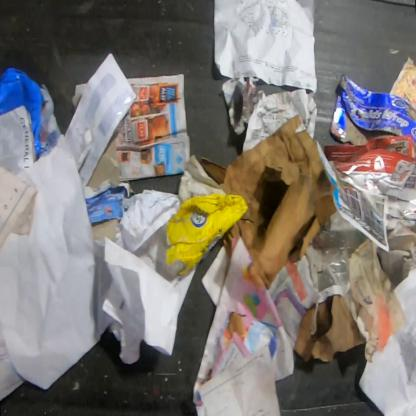cardboard: (199, 113, 338, 291), (164, 193, 249, 276), (329, 72, 416, 146), (293, 294, 366, 365), (86, 135, 120, 191), (92, 218, 120, 244)
rigid_plastic: (0, 66, 46, 161)
soft_plastic: (309, 210, 369, 292)
